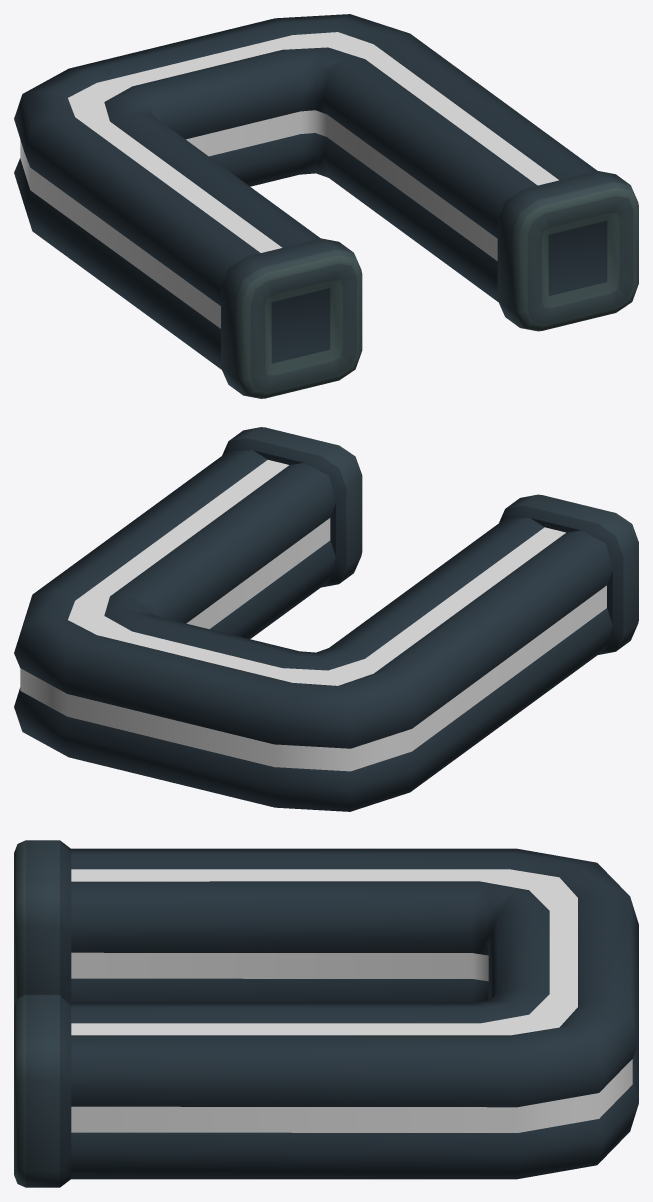
File: Track_Horizontal_End.fbx
3 views of the same model, one above another, from view 1: azimuth 30°, elevation 25°; view 2: azimuth 150°, elevation 25°; view 3: azimuth 270°, elevation 25° (orthographic). The views are drawn at different scales.
Parts seen in each view (by area): view 1: Track_Horizontal_End_LOD0; view 2: Track_Horizontal_End_LOD0; view 3: Track_Horizontal_End_LOD0.
Boxes of the visible parts, x1,y1,x2,y2 form: Track_Horizontal_End_LOD0: (14, 14, 638, 398); Track_Horizontal_End_LOD0: (14, 427, 638, 811); Track_Horizontal_End_LOD0: (14, 840, 638, 1187).
Size of what is drawn, in the model's own units: 0.7257 by 0.2263 by 0.8571.
